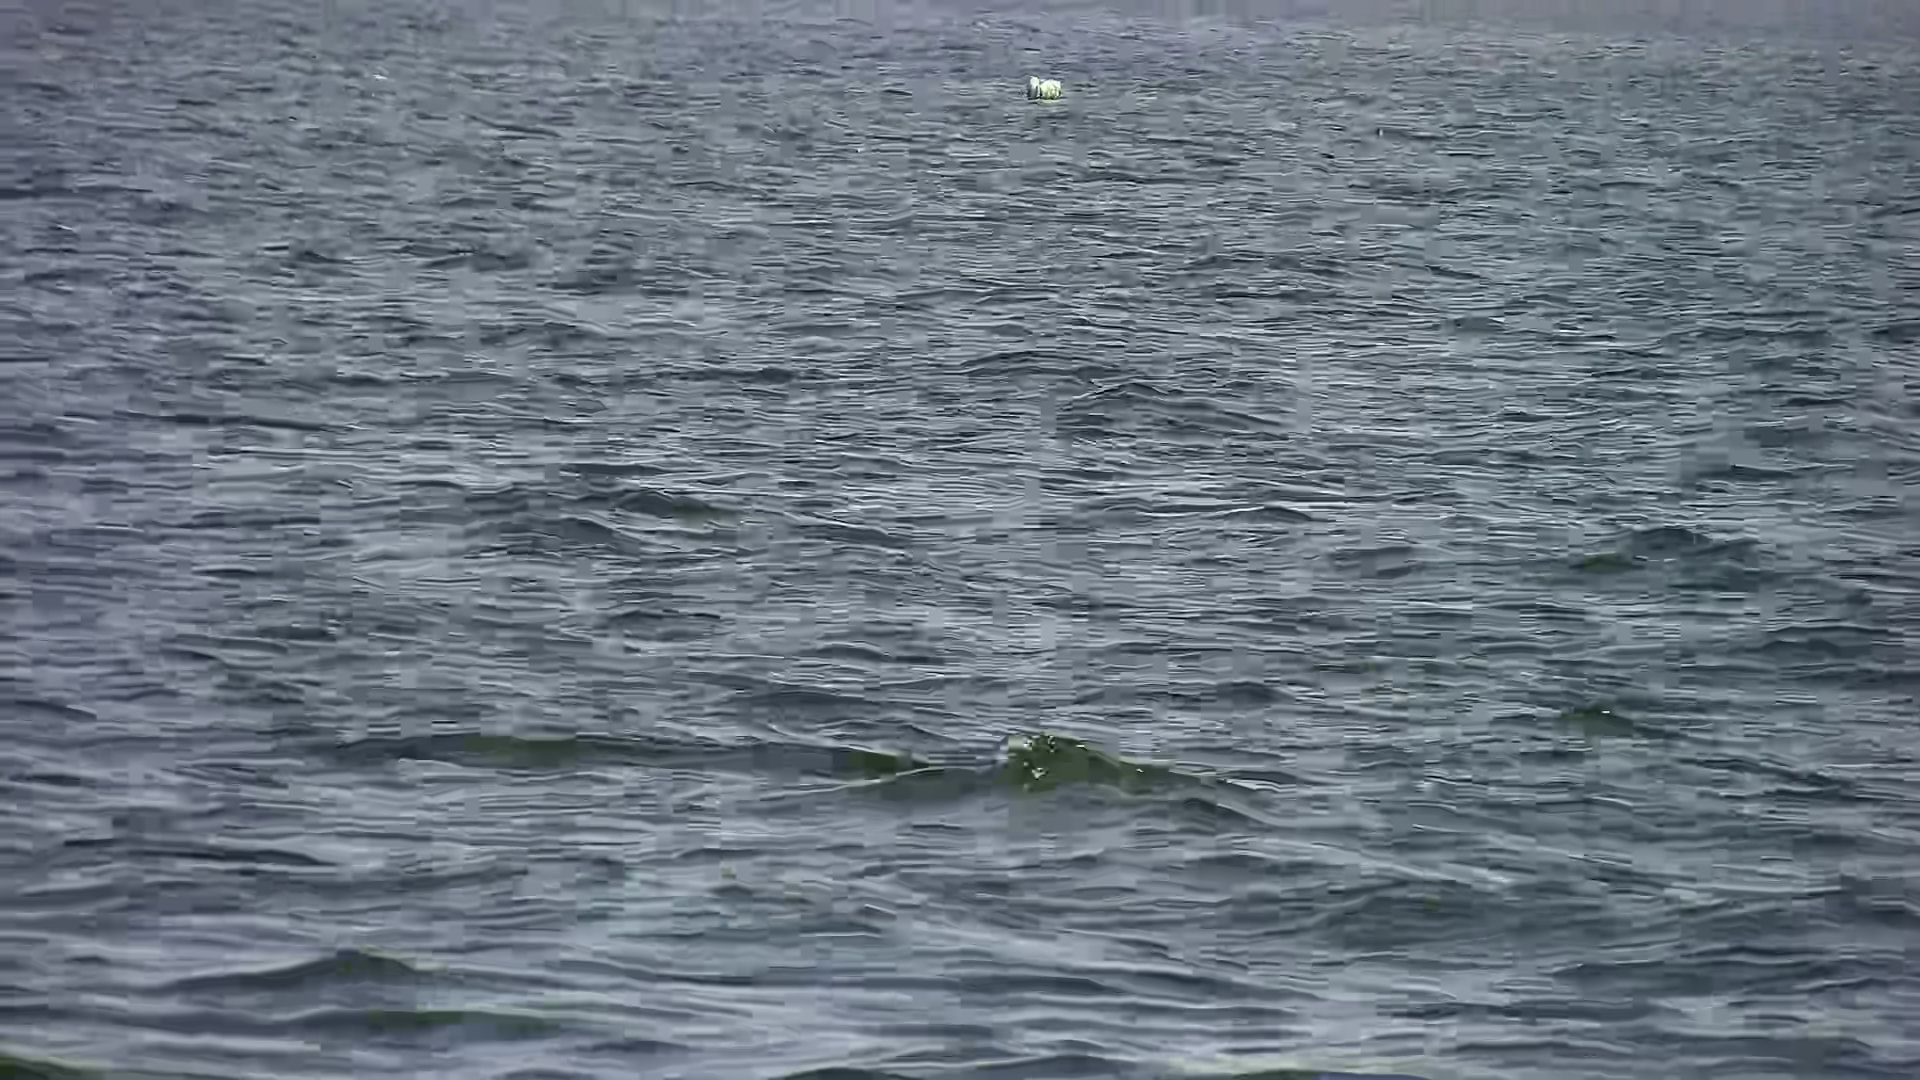rubbish: (1007, 59, 1077, 105)
